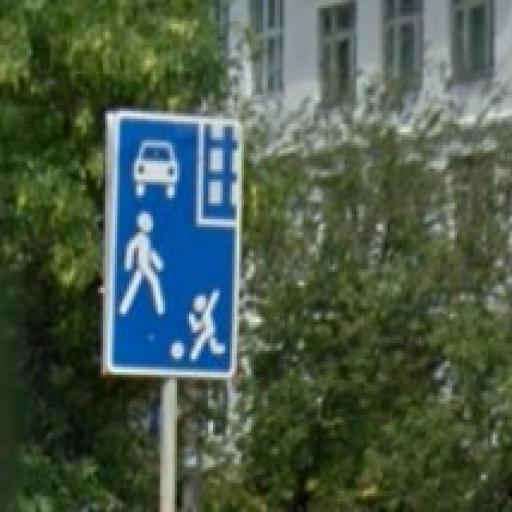traffic_sign: (109, 109, 248, 381)
